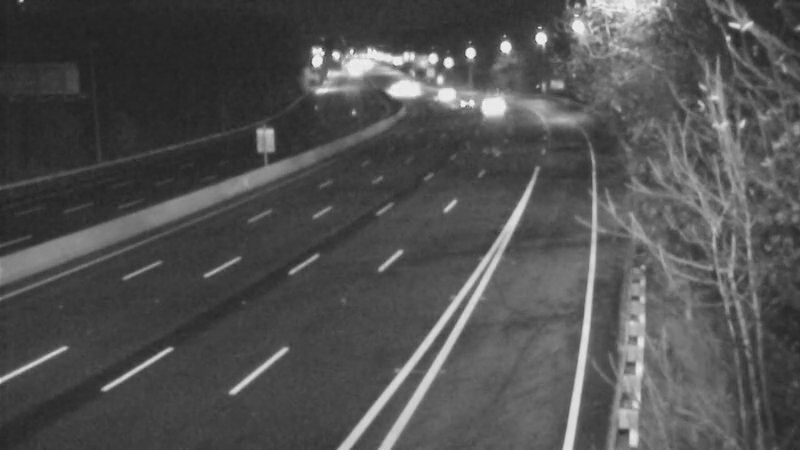vehicle: (373, 65, 423, 115), (423, 70, 473, 120), (433, 78, 483, 128), (463, 81, 513, 131)
